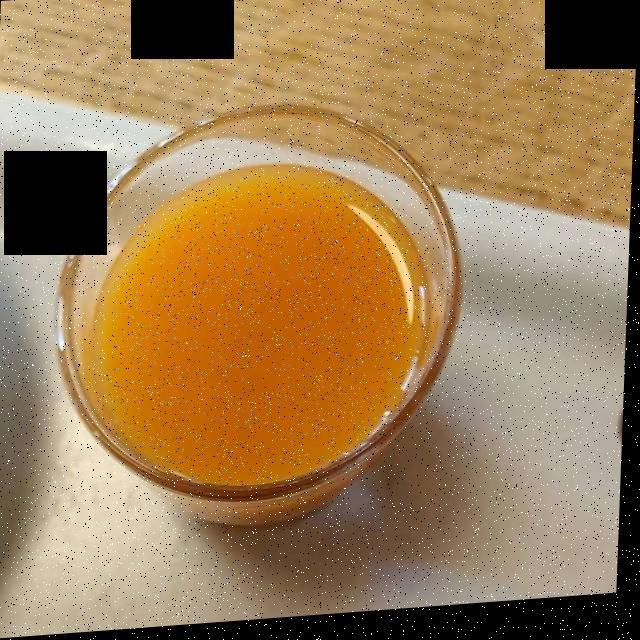juice: (89, 179, 427, 484)
